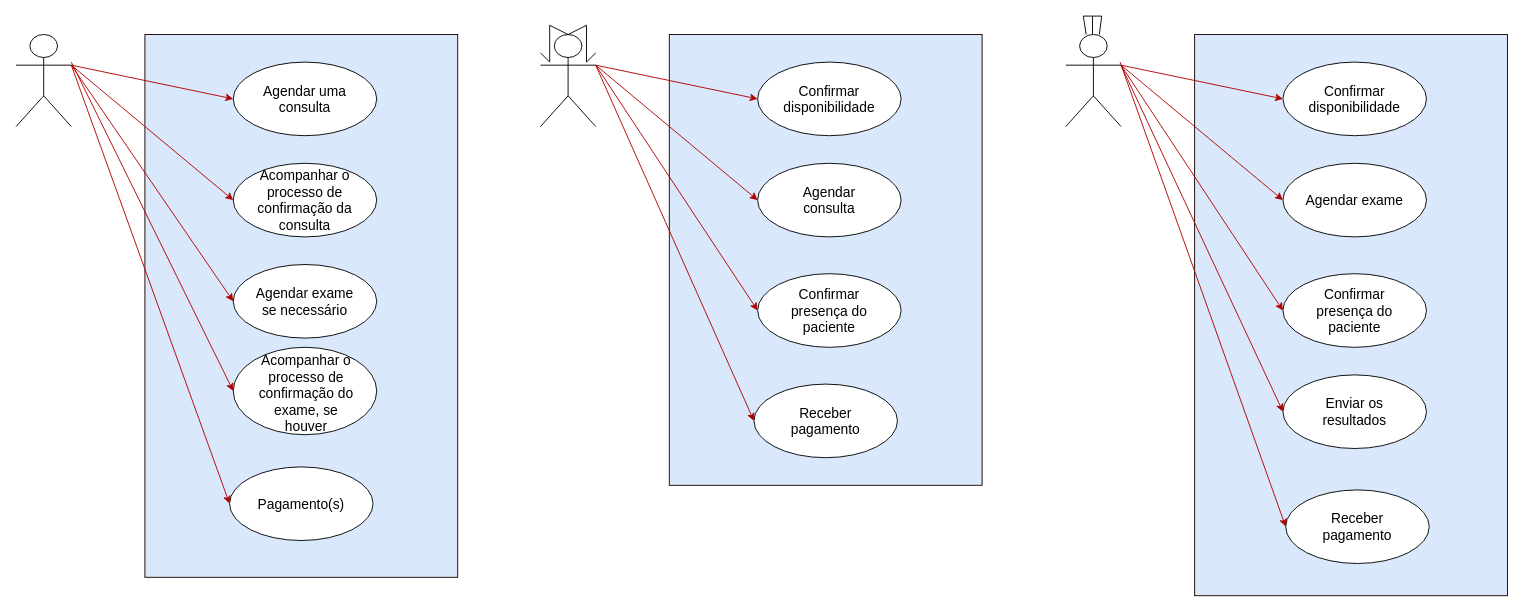
Some shapes in this 1524 by 612 pixel diagram are drawn without their labels. The shapes that lost their labels are listed below. From the top down, each one's centre as x and y in pixels, then its label:
At point (43, 80): "Paciente".
At point (568, 80): "Atendente do hospital".
At point (1093, 80): "Atendente do Laboratório".
